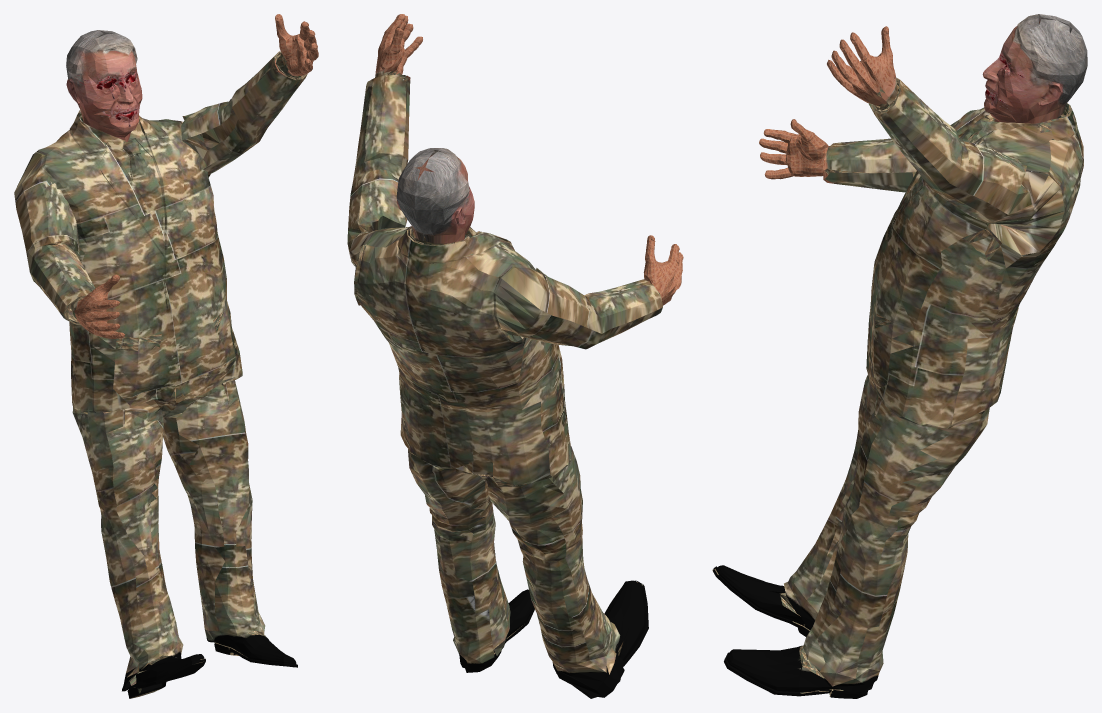
File: zombie_000058.obj
3 renders of one model, left to right at view 1: azimuth 30°, elevation 25°; view 2: azimuth 150°, elevation 25°; view 3: azimuth 270°, elevation 25°, orthographic. The views are drawn at different scales.
Visible parts, largest first — view 1: Suit_coat_orig_9___De, objGeo_Hea_orig_9___D; view 2: Suit_coat_orig_9___De, objGeo_Hea_orig_9___D; view 3: Suit_coat_orig_9___De, objGeo_Hea_orig_9___D.
Part boxes in pixels (<box>): Suit_coat_orig_9___De: <box>14,14,318,698</box>; objGeo_Hea_orig_9___D: <box>66,30,142,141</box>; Suit_coat_orig_9___De: <box>347,14,683,698</box>; objGeo_Hea_orig_9___D: <box>396,148,474,243</box>; Suit_coat_orig_9___De: <box>712,26,1083,698</box>; objGeo_Hea_orig_9___D: <box>982,14,1087,123</box>.
Size of the model in its own units: 0.8686 by 1.96 by 0.9403.
